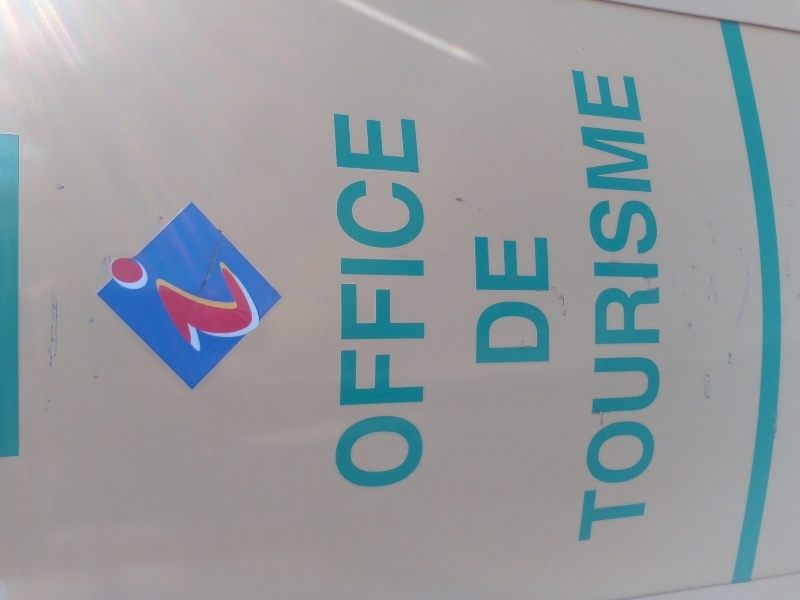text: (577, 70, 592, 545), (593, 70, 608, 545), (609, 70, 624, 545), (625, 70, 640, 545), (641, 70, 656, 545), (337, 113, 352, 490), (353, 113, 368, 490), (369, 113, 384, 490), (385, 113, 400, 490), (401, 113, 416, 490), (417, 113, 429, 490), (657, 70, 664, 545), (481, 236, 496, 365), (497, 236, 512, 365), (513, 236, 528, 365), (529, 236, 544, 365), (572, 70, 576, 545), (332, 113, 336, 490), (113, 258, 128, 353), (129, 258, 144, 353), (145, 258, 160, 353), (161, 258, 176, 353), (177, 258, 192, 353), (193, 258, 208, 353), (209, 258, 224, 353), (225, 258, 240, 353), (241, 258, 256, 353), (545, 236, 553, 365), (257, 258, 264, 353), (475, 236, 480, 365), (110, 258, 112, 353)
